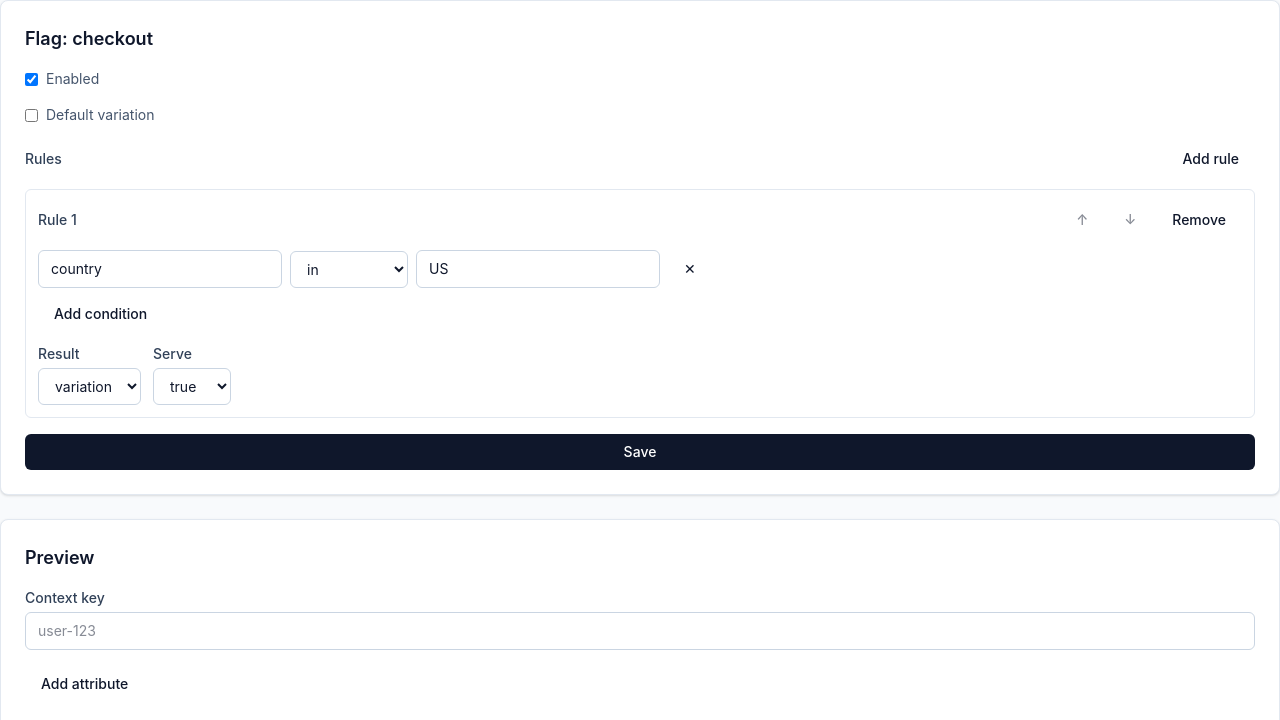
Scenario: FlagEditorRoute › clamps rollout percentage to 0..100 and defaults bucketBy to key
The image size is (1280, 720).
expect the checkbox labelled "Enabled" is shown: met, box [25,72,38,86]
Step 1. Select "rollout" in the dropdown named "Rule 1 result kind" → point(90, 386), box [38,368,141,405]
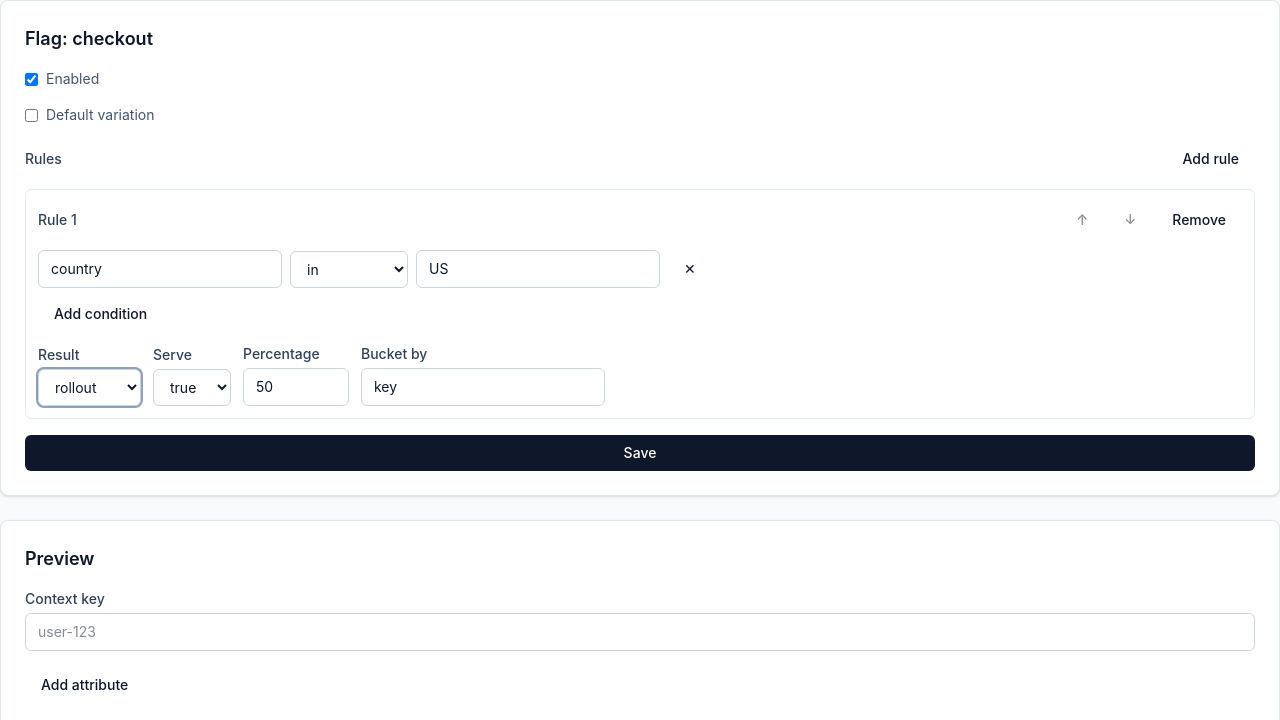
expect the field named "Rule 1 bucket by" holds "key": met, box [361,368,605,406]
Step 2. Replace the text in the number field named "Rule 1 percentage" with "150" → point(296, 387), box [243,368,349,406]
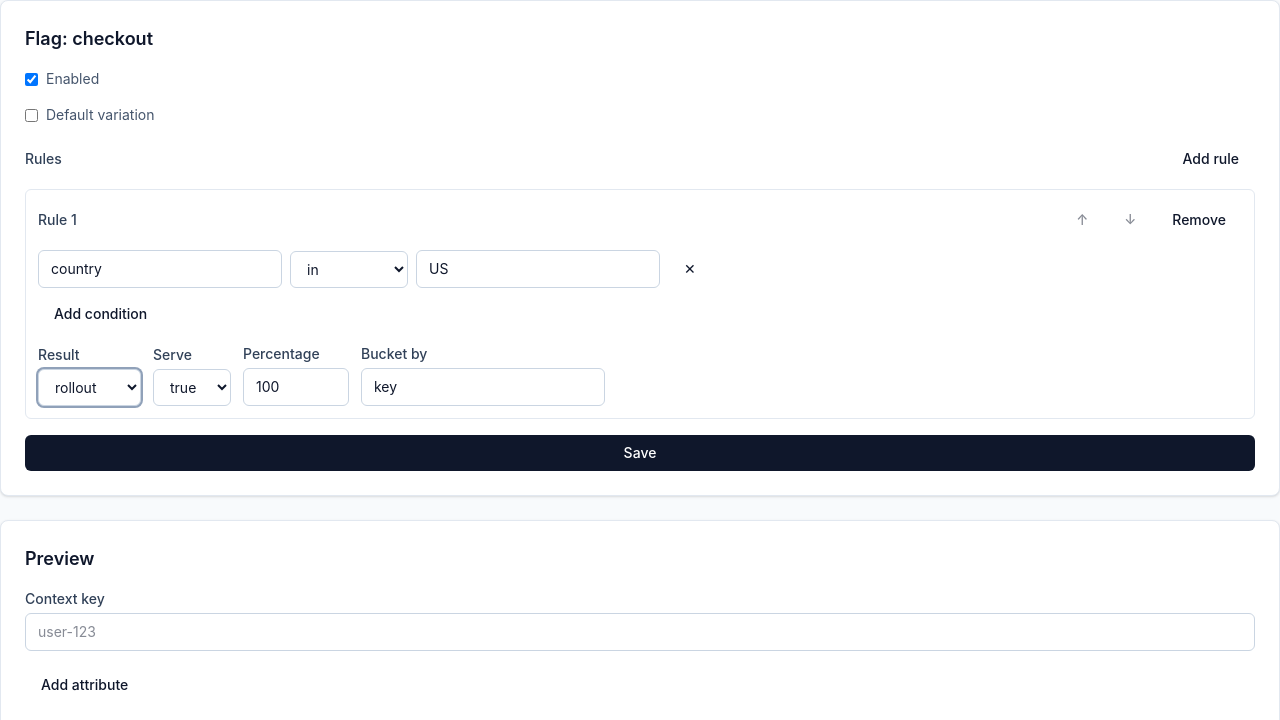
expect the number field named "Rule 1 percentage" holds "100": met
Step 3. Replace the text in the number field named "Rule 1 percentage" with "-5" → point(296, 387), box [243,368,349,406]
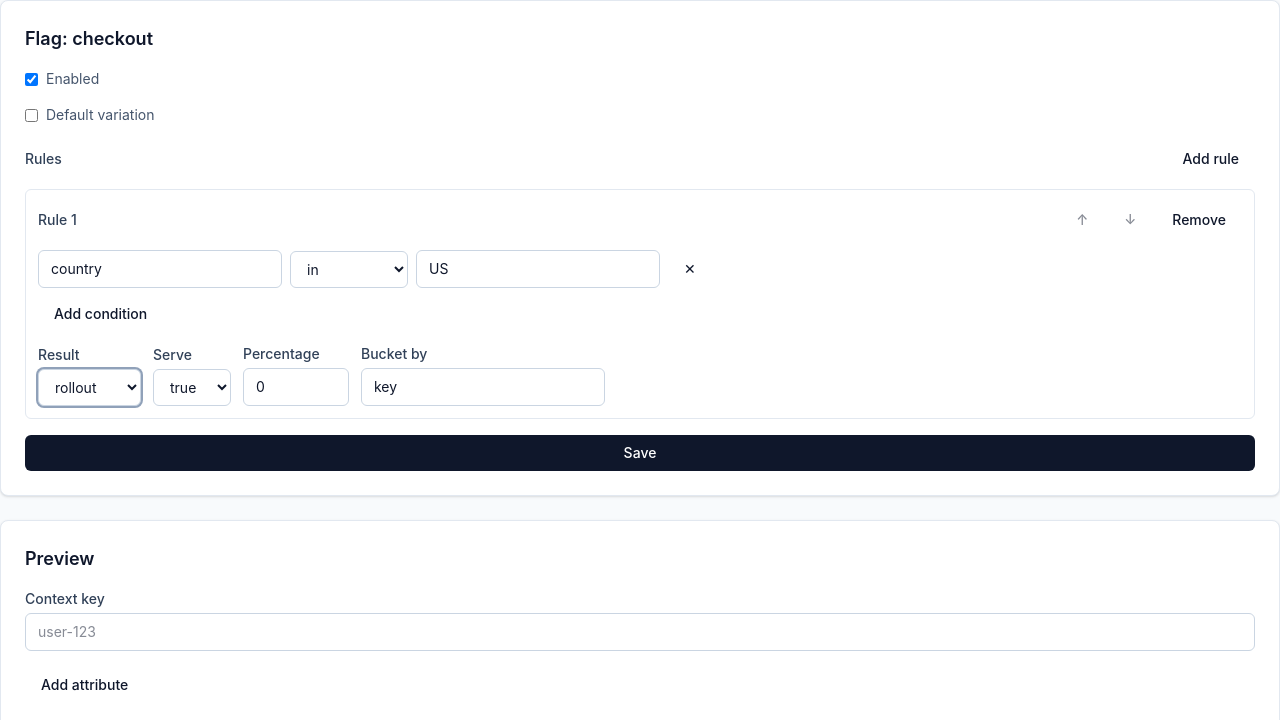
expect the number field named "Rule 1 percentage" holds "0": met, box [243,368,349,406]
